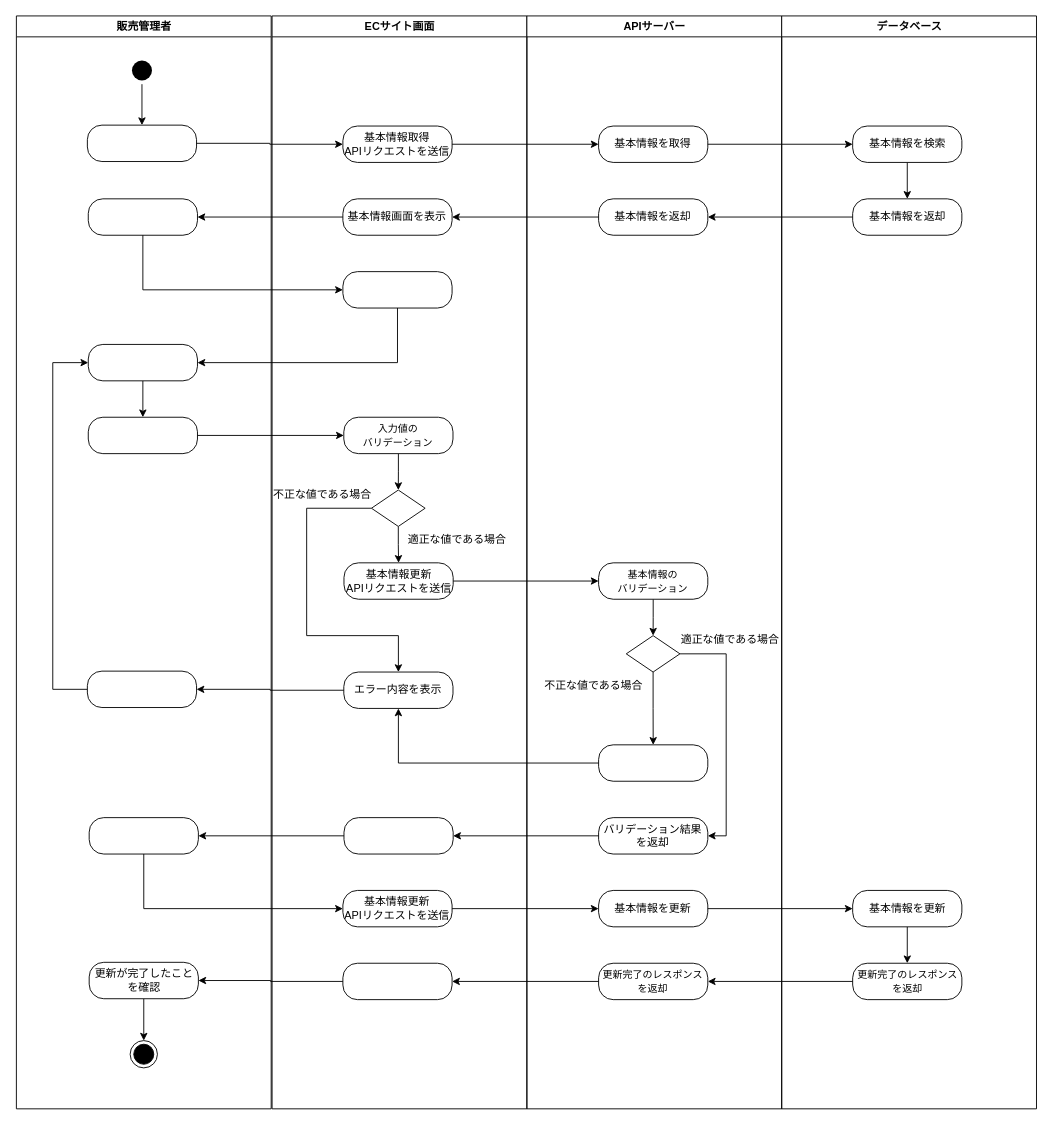
Some shapes in this 1052 by 1125 pixel diagram are drawn without their labels. The shapes that lost their labels are listed below. From the top down, each one's centre as x and y in pixels, then its label:
point 141,143: 基本情報画面に アクセス
point 142,216: 編集ボタンを押下
point 397,289: 基本情報編集画面を 表示
point 142,362: 値を変更
point 142,435: 確認ボタンを押下
point 141,689: エラー内容を確認
point 653,762: エラーを返却
point 143,835: 更新ボタンを押下
point 398,835: 基本情報変更確認 画面を 表示
point 397,981: 基本情報編集完了 画面に 更新完了の メッセージを表示
